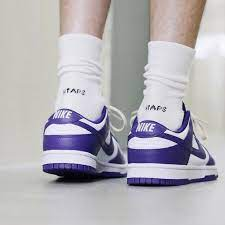nike_dunk_low_purple_court: (125, 109, 218, 187), (42, 106, 127, 176)
